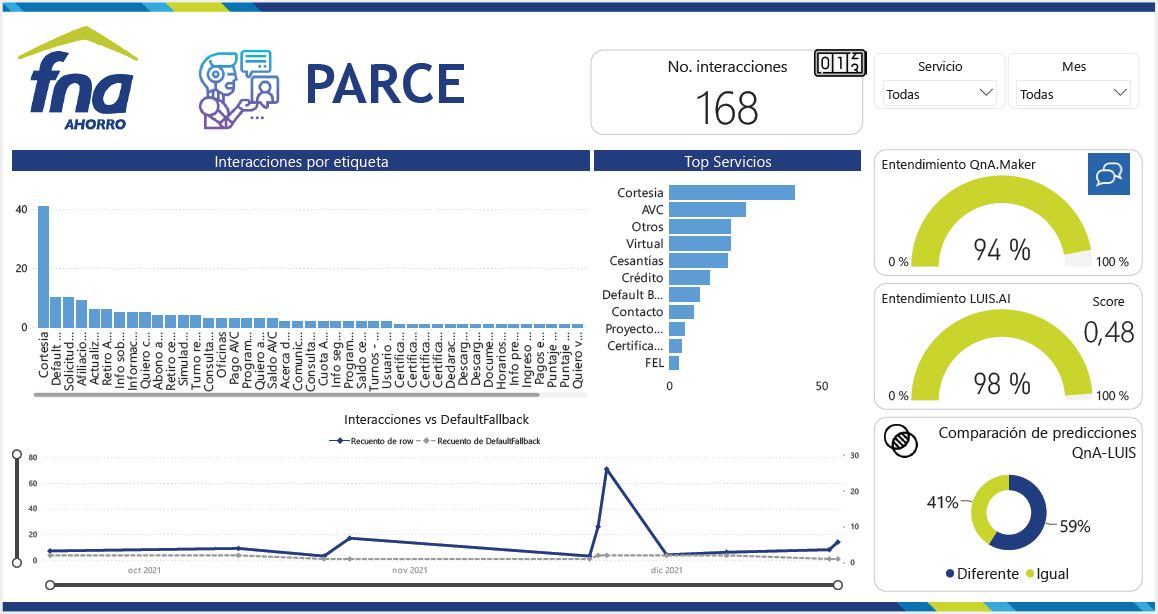

This screenshot's page, from the dashboard's own definition file:
{"tool":"powerbi","page":{"name":"PARCE","canvas":[1980,1080],"ordinal":0},"visuals":[{"type":"slicer","title":"Mes","fields":{"Values":["Base_ChatBot.Mes"]},"box":[1676.5,133.7,210.1,89.1],"z":0},{"type":"textbox","box":[545.4,123.1,331.1,131.6],"z":1000},{"type":"card","title":"No. interacciones","fields":{"Values":["Base_ChatBot.row"]},"box":[1010.2,129.5,435,135.8],"z":2000},{"type":"slicer","title":"Servicio","fields":{"Values":["Base_ChatBot.Servicio"]},"box":[1462.2,133.7,210.1,89.1],"z":3000},{"type":"gauge","title":"Entendimiento LUIS.AI","fields":{"Y":["Dax.% Entendimiento Luis"]},"box":[1461.5,502,429.3,201.8],"z":4000},{"type":"clusteredColumnChart","title":"Interacciones por etiqueta","fields":{"Category":["Base_ChatBot.Etiqueta"],"Y":["Base_ChatBot.row"]},"box":[80.6,286.5,929.5,405.3],"z":5000},{"type":"gauge","title":"Entendimiento QnA.Maker","fields":{"Y":["Dax.Entendimiento Bot"]},"box":[1461.5,288.6,429.3,201.8],"z":6000},{"type":"donutChart","title":"Comparación de predicciones QnA-LUIS","fields":{"Y":["Base_ChatBot.Conteo"],"Category":["Base_ChatBot.QnA-LUIS"]},"box":[1461.5,715.5,429.3,279.2],"z":7000},{"type":"clusteredBarChart","title":"Top Servicios","fields":{"Category":["Base_ChatBot.Servicio"],"Y":["Base_ChatBot.Conteo"]},"box":[1011.2,286.4,433.1,404.8],"z":8000},{"type":"image","box":[1461.5,722.6,86.8,63.3],"z":9000},{"type":"image","box":[1778.4,289.4,117.8,75.8],"z":10000},{"type":"image","box":[1311.5,104,193.1,93.4],"z":11000},{"type":"card","title":"Score","fields":{"Values":["Base_ChatBot.LUIS_score"]},"box":[1786.9,513.6,99.7,95.5],"z":12000},{"type":"lineChart","title":"Interacciones vs DefaultFallback","fields":{"Category":["Base_ChatBot.turn_date"],"Y":["Base_ChatBot.row"],"Y2":["Base_ChatBot.DefaultFallback"]},"box":[81.3,703.6,1363,291.7],"z":13000},{"type":"image","box":[186.8,123.1,519.9,140.1],"z":14000}]}

Visuals, with their boxes in screenshot pixels (x1, y1, x2, y2), scaled from the page's 1980x1080 canvas onto the 1158x614 screenshot:
"Mes" slicer: bbox=(980, 76, 1103, 127)
textbox: bbox=(319, 70, 513, 145)
"No. interacciones" card: bbox=(591, 74, 845, 151)
"Servicio" slicer: bbox=(855, 76, 978, 127)
"Entendimiento LUIS.AI" gauge: bbox=(855, 285, 1106, 400)
"Interacciones por etiqueta" clusteredColumnChart: bbox=(47, 163, 591, 393)
"Entendimiento QnA.Maker" gauge: bbox=(855, 164, 1106, 279)
"Comparación de predicciones QnA-LUIS" donutChart: bbox=(855, 407, 1106, 566)
"Top Servicios" clusteredBarChart: bbox=(591, 163, 845, 393)
image: bbox=(855, 411, 906, 447)
image: bbox=(1040, 165, 1109, 208)
image: bbox=(767, 59, 880, 112)
"Score" card: bbox=(1045, 292, 1103, 346)
"Interacciones vs DefaultFallback" lineChart: bbox=(48, 400, 845, 566)
image: bbox=(109, 70, 413, 150)
